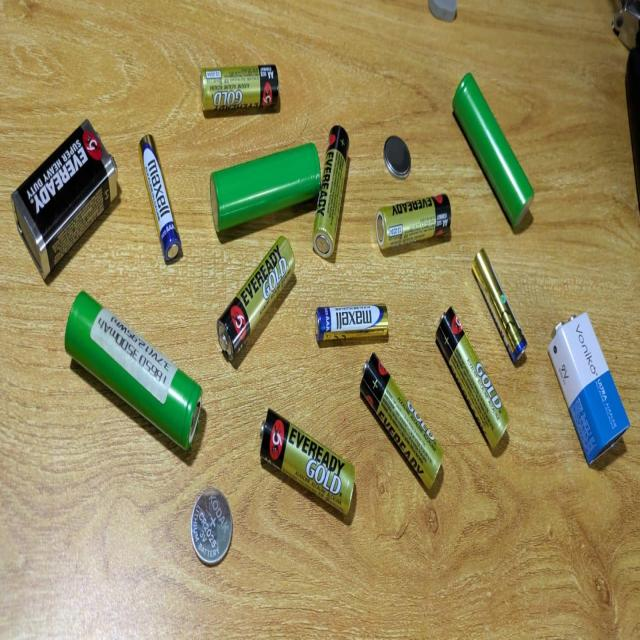9V: (8, 119, 118, 281), (548, 310, 630, 466)
AA: (359, 352, 443, 490), (436, 305, 512, 451), (216, 235, 298, 364), (258, 406, 354, 515), (311, 125, 350, 261), (375, 193, 450, 253), (200, 64, 281, 115)
AAA: (472, 248, 528, 364), (138, 134, 182, 266), (315, 302, 385, 344)
COIN: (190, 487, 232, 565), (382, 135, 412, 180)
